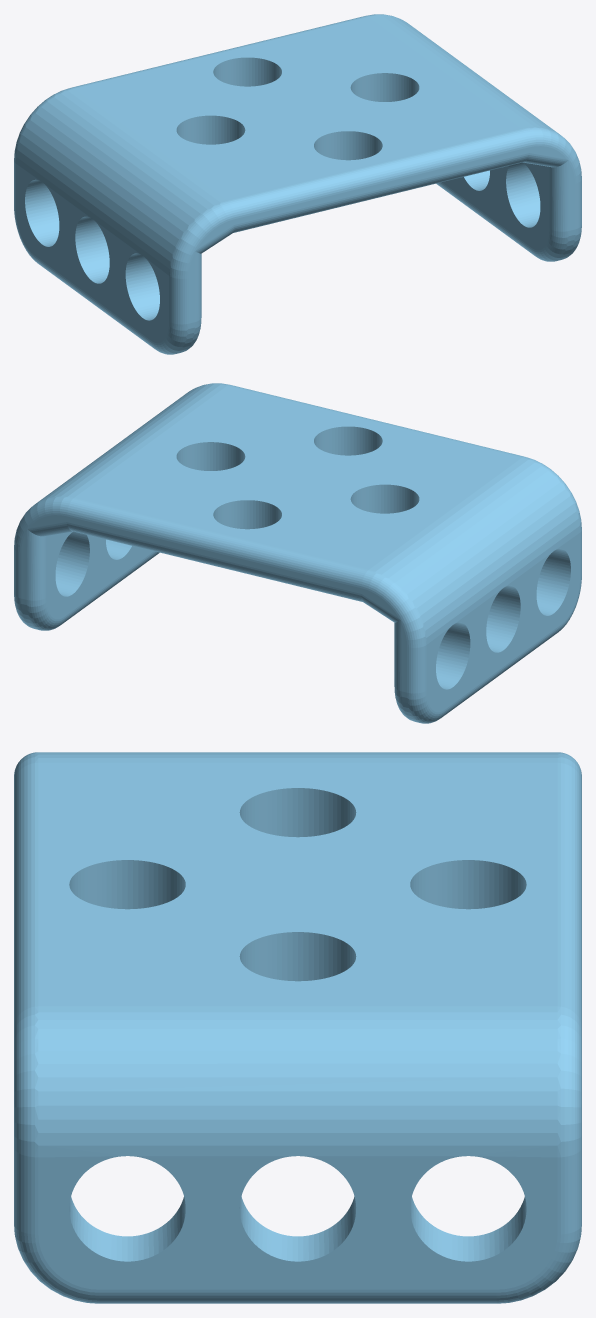
File: short_U.dae
The picture shows the model from 3 angles, top to bottom: view 1: azimuth 30°, elevation 25°; view 2: azimuth 150°, elevation 25°; view 3: azimuth 270°, elevation 25°; orthographic projection. The views are drawn at different scales.
Visible parts, largest first — view 1: 5eb856c99167d915bdb4b0c3; view 2: 5eb856c99167d915bdb4b0c3; view 3: 5eb856c99167d915bdb4b0c3.
Part boxes in pixels (left/top/right/bottom): 5eb856c99167d915bdb4b0c3: left=14, top=14, right=581, bottom=354; 5eb856c99167d915bdb4b0c3: left=14, top=383, right=581, bottom=723; 5eb856c99167d915bdb4b0c3: left=14, top=752, right=581, bottom=1303.
Size of the model in its own units: 0.0283 by 0.02 by 0.01.
